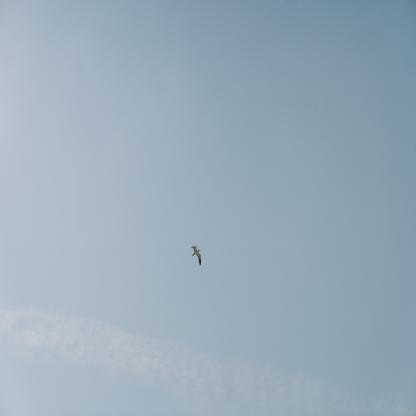bird: (190, 245, 202, 265)
